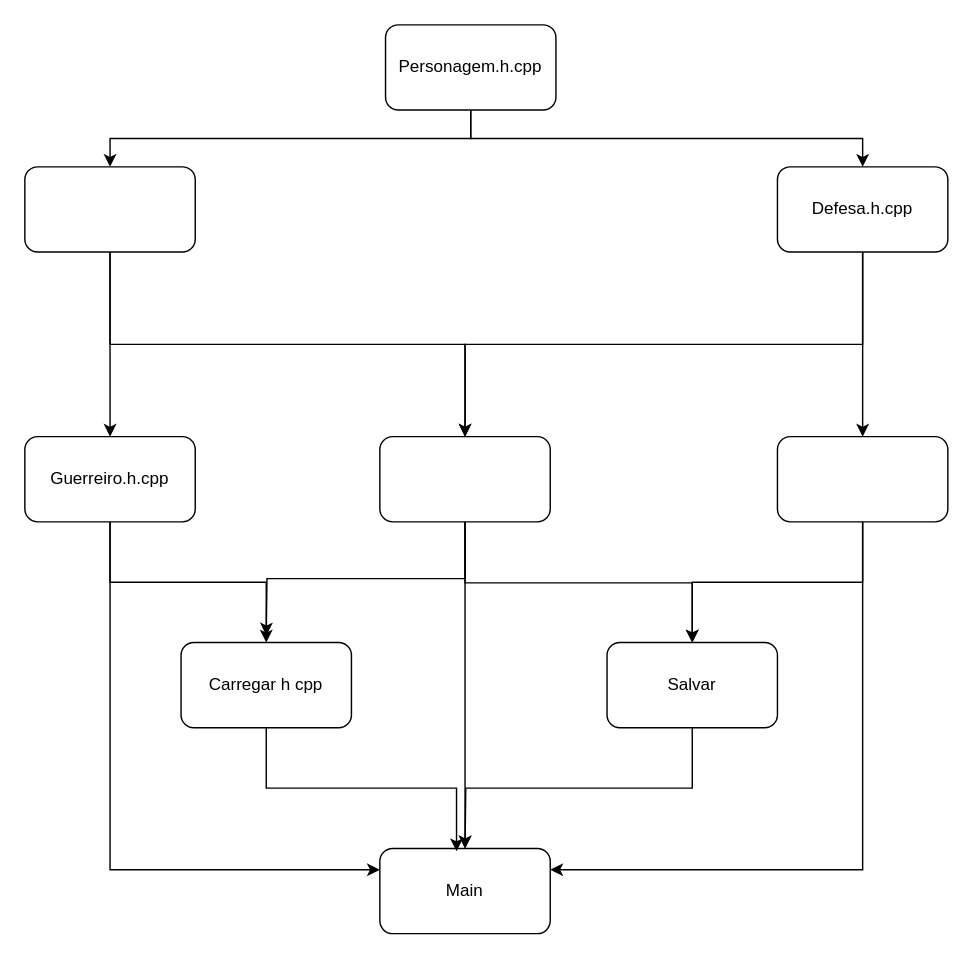
The diagram is 973 pixels wide and 959 high, and some of its shapes have lost their labels. Here are the shapes that lost their labels. From the top down, the centre of each, then its label:
At pixel 109 208: "Forca.h.cpp".
At pixel 464 478: "Mago.h.cpp".
At pixel 862 478: "Forteiro.h.cpp".
